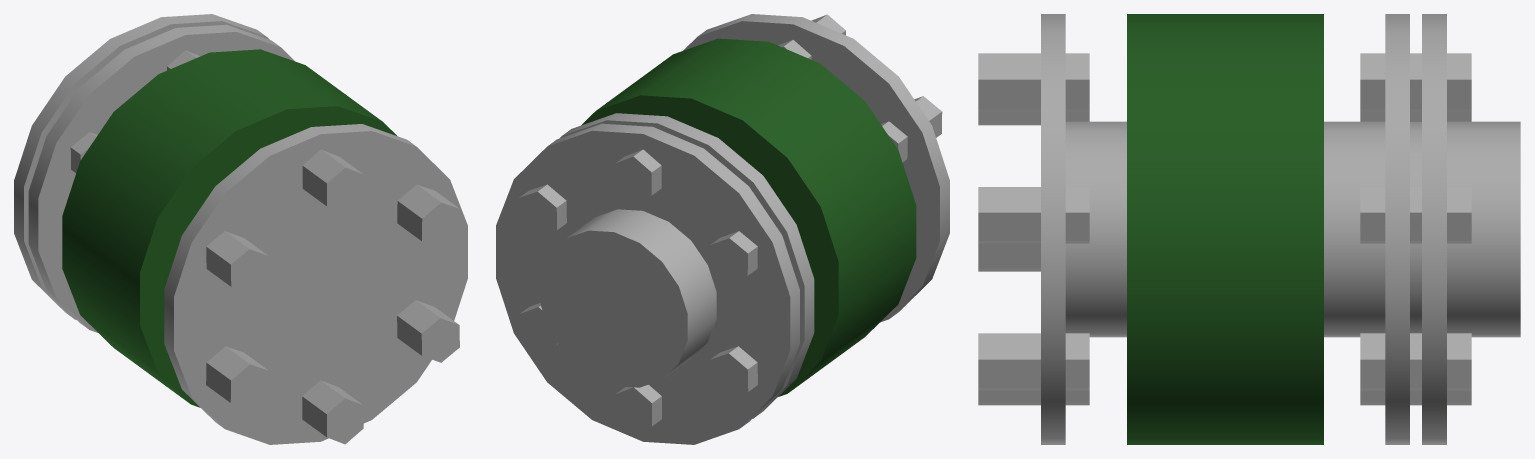
Rendered from Pipe_Socket-Straight_16cm.fbx.
3 views of the same model, side by side, from view 1: azimuth 30°, elevation 25°; view 2: azimuth 150°, elevation 25°; view 3: azimuth 270°, elevation 25° (orthographic). The views are drawn at different scales.
Visible parts, largest first — view 1: Pipe_Socket-Straight_16cm; view 2: Pipe_Socket-Straight_16cm; view 3: Pipe_Socket-Straight_16cm.
Part boxes in pixels (x1=…): Pipe_Socket-Straight_16cm: x1=14, y1=14, x2=467, y2=444; Pipe_Socket-Straight_16cm: x1=496, y1=14, x2=949, y2=444; Pipe_Socket-Straight_16cm: x1=978, y1=14, x2=1520, y2=444.
Bounding box in the file's own units: 16 × 16 × 20.1.
